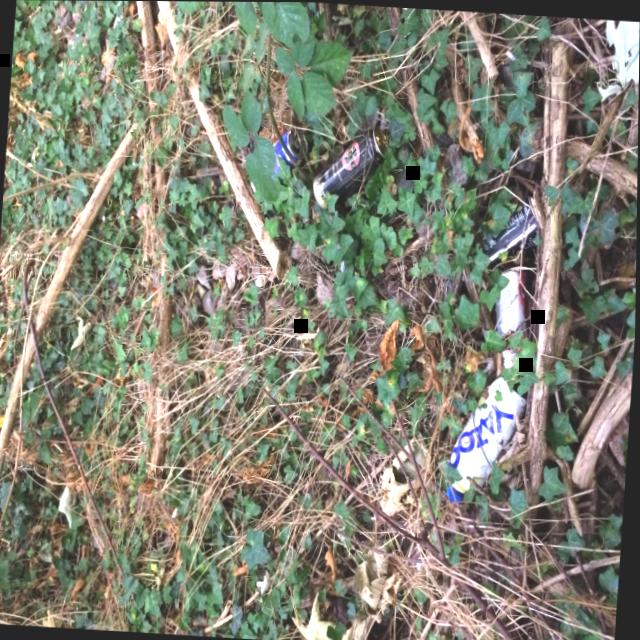Clear plastic bottle: (475, 374, 528, 465), (451, 413, 492, 501)
Drink can: (314, 126, 387, 208), (482, 194, 535, 259), (497, 269, 527, 333), (280, 129, 308, 161), (272, 138, 294, 177)
Plastic bottle cap: (447, 488, 463, 502)
Pop tab: (379, 138, 388, 146)
